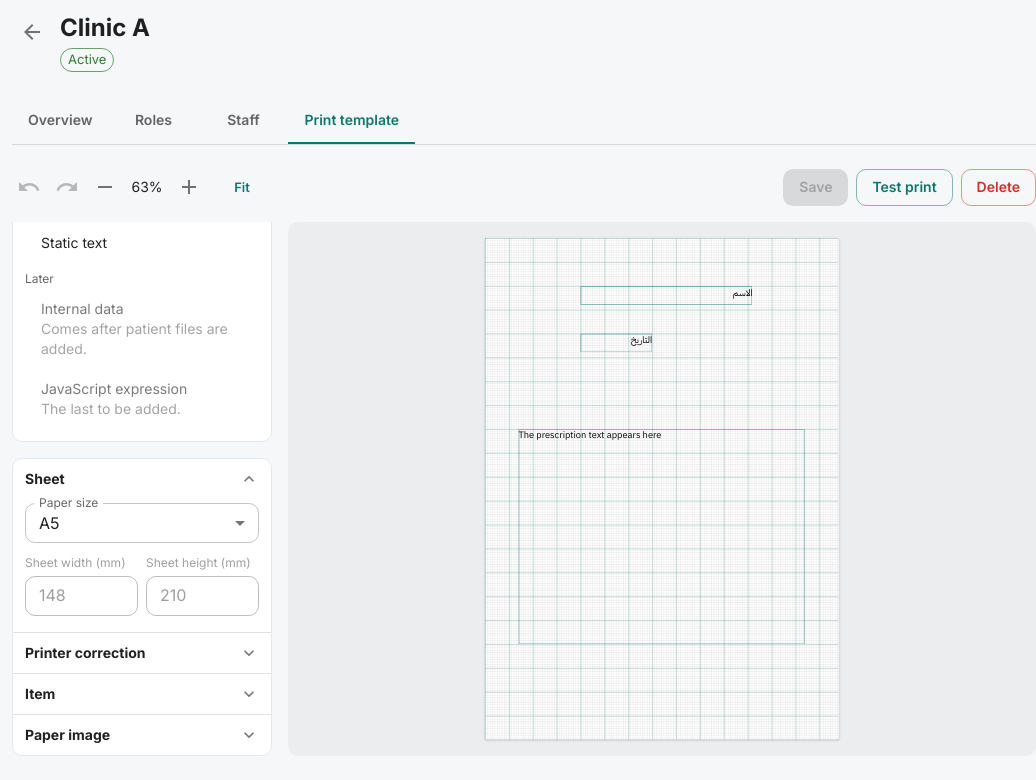
Test: one section at a time @area:admin › closed, a section's fields aren't reachable; open, they are, and only its own @TPL-729
(page scrolled)
expect the field labelled "Sheet width (mm)" is shown: met, box 25,576 -> 138,616
expect the field labelled "X: + moves right (mm)" is not shown: met
Click the button "Printer correction" at (142, 652), box 13,632 -> 271,672
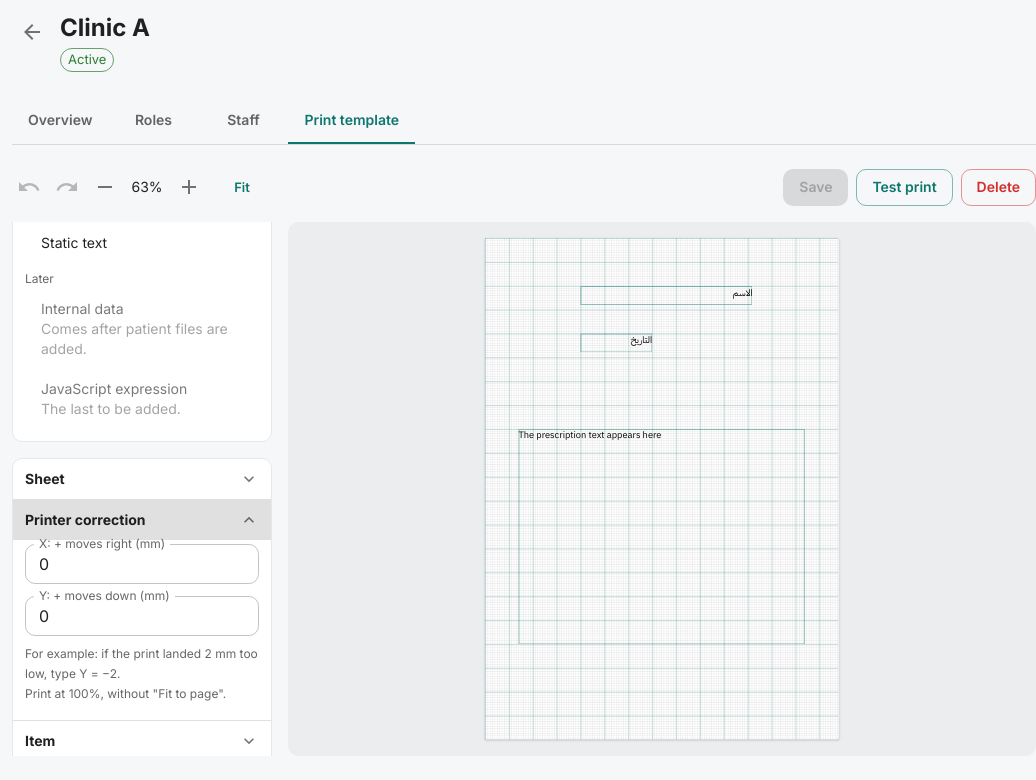
expect the field labelled "X: + moves right (mm)" is shown: met, box 25,544 -> 259,584
expect the label "Sheet width (mm)" is gone: met
